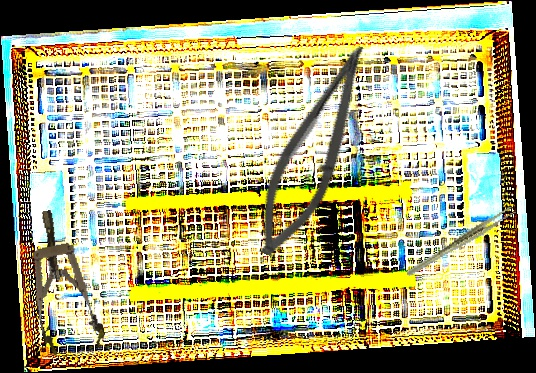Micro Scissor: (244, 33, 380, 267)
Speculum: (17, 204, 108, 359)
Tissue Forceps: (397, 204, 525, 278)
